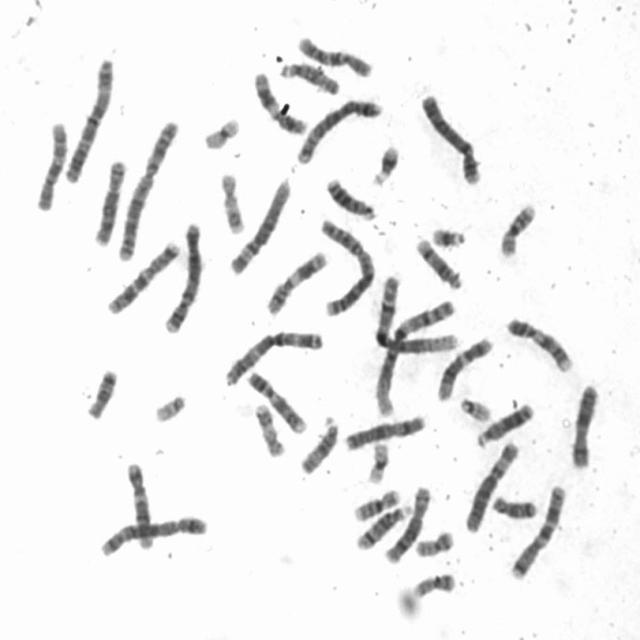A1: (371, 291, 458, 420), (370, 269, 459, 356)
A2: (113, 114, 181, 264), (314, 212, 376, 318)
A3: (63, 53, 119, 185), (220, 325, 326, 389)
B4: (417, 88, 484, 186), (160, 216, 204, 336)
B5: (292, 93, 385, 166), (96, 511, 209, 558)
C10: (294, 30, 376, 79), (31, 115, 70, 212)
C11: (262, 245, 331, 318), (250, 66, 310, 136)
C12: (433, 330, 496, 402), (122, 456, 157, 552)
C6: (225, 174, 292, 277), (462, 436, 522, 534)
C7: (103, 235, 182, 316), (506, 480, 569, 581)
C8: (380, 480, 432, 564), (90, 154, 129, 248)
C9: (502, 311, 575, 374), (244, 366, 309, 435)
D13: (473, 398, 536, 448), (323, 172, 379, 221)
D14: (412, 232, 466, 292), (352, 501, 413, 552)
D15: (297, 413, 341, 476), (278, 56, 342, 96)
E16: (496, 198, 538, 258), (350, 484, 403, 523)
E17: (216, 167, 248, 236), (251, 398, 287, 459)
E18: (83, 364, 120, 421), (488, 490, 539, 520)
F19: (200, 112, 242, 151), (363, 436, 391, 486)
F20: (412, 524, 457, 558), (410, 568, 458, 599)
G21: (367, 139, 402, 187), (428, 221, 468, 249)
G22: (150, 389, 189, 424), (456, 392, 494, 423)
X: (340, 409, 429, 453), (568, 379, 602, 471)
